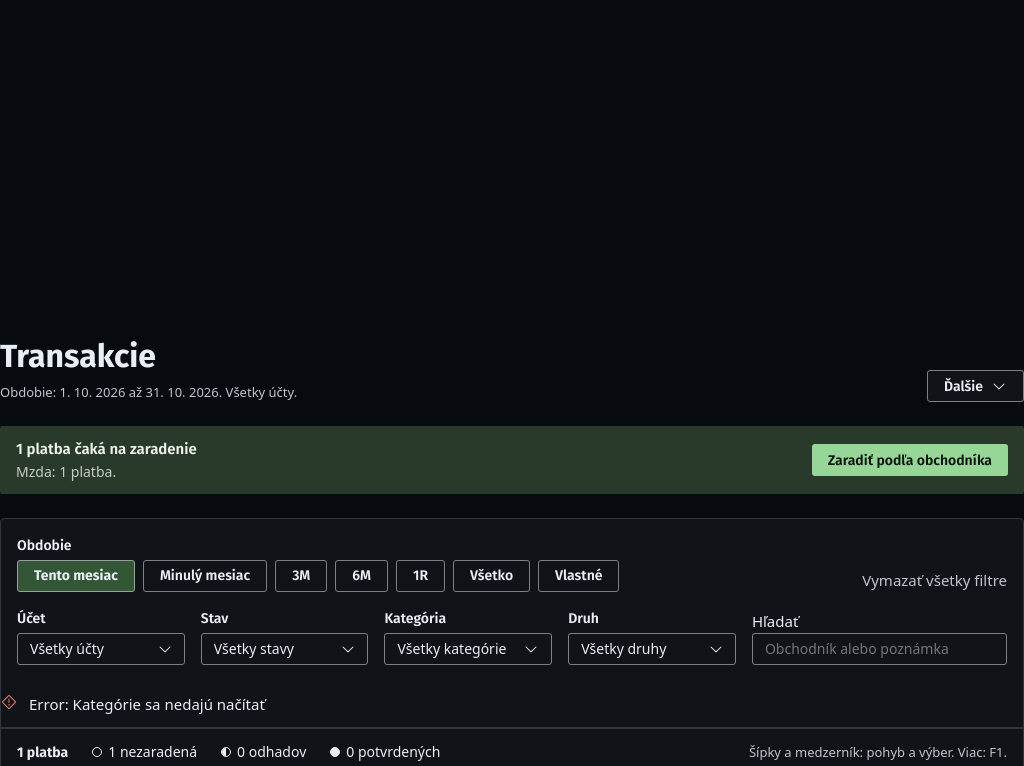
reloads account and category sources through Obnoviť after initial metadata failure
(page scrolled)
Expected: the message "Error: Kategórie sa nedajú načítať" is shown, x1=1 y1=681 x2=1023 y2=728
Click the button "Ďalšie": (976, 386) x1=927 y1=370 x2=1023 y2=402
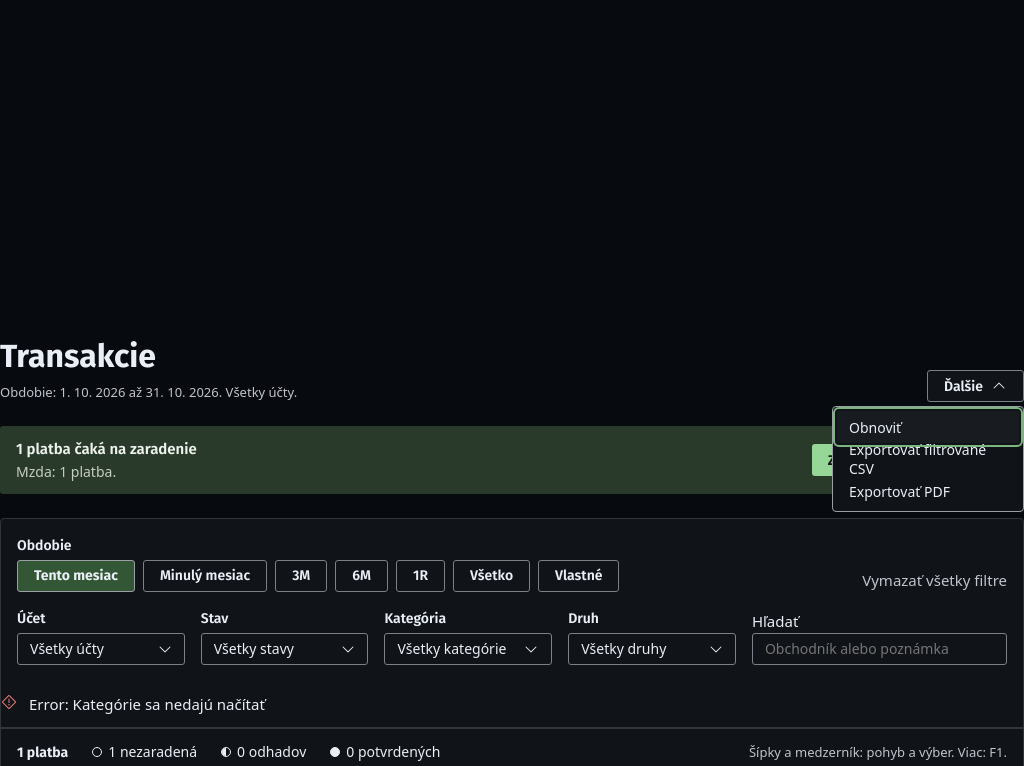
Click the menu item "Obnoviť": (928, 427) x1=837 y1=411 x2=1019 y2=443
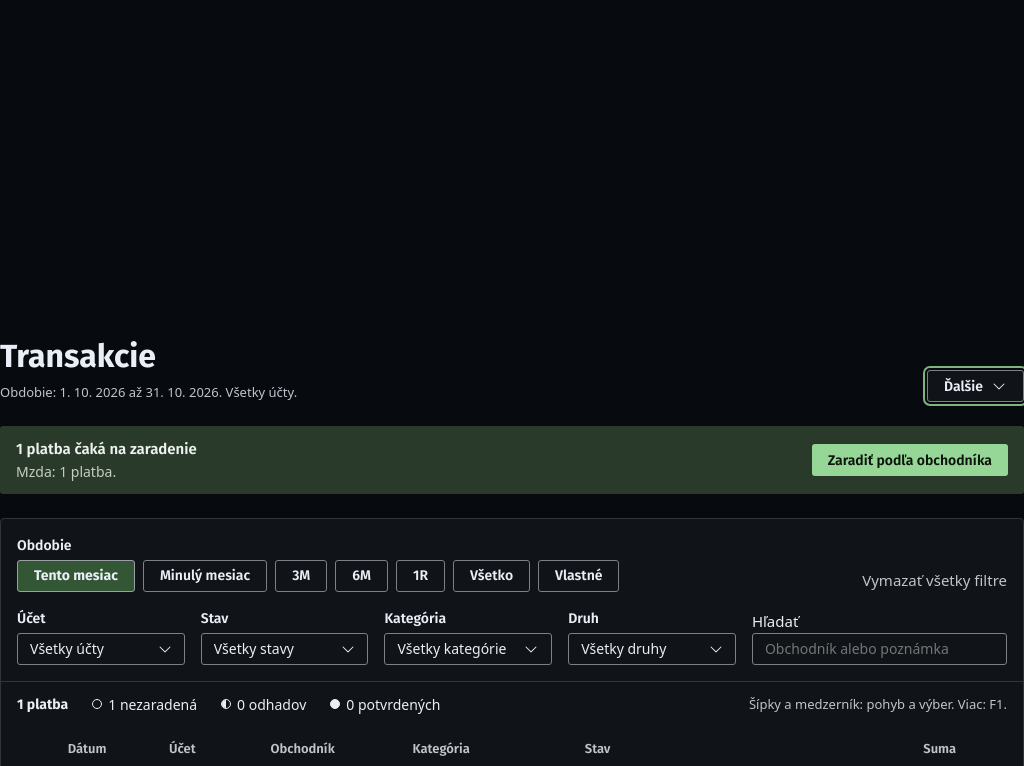
Click the dropdown named "Kategória": (468, 649) x1=384 y1=633 x2=552 y2=665
(page scrolled)
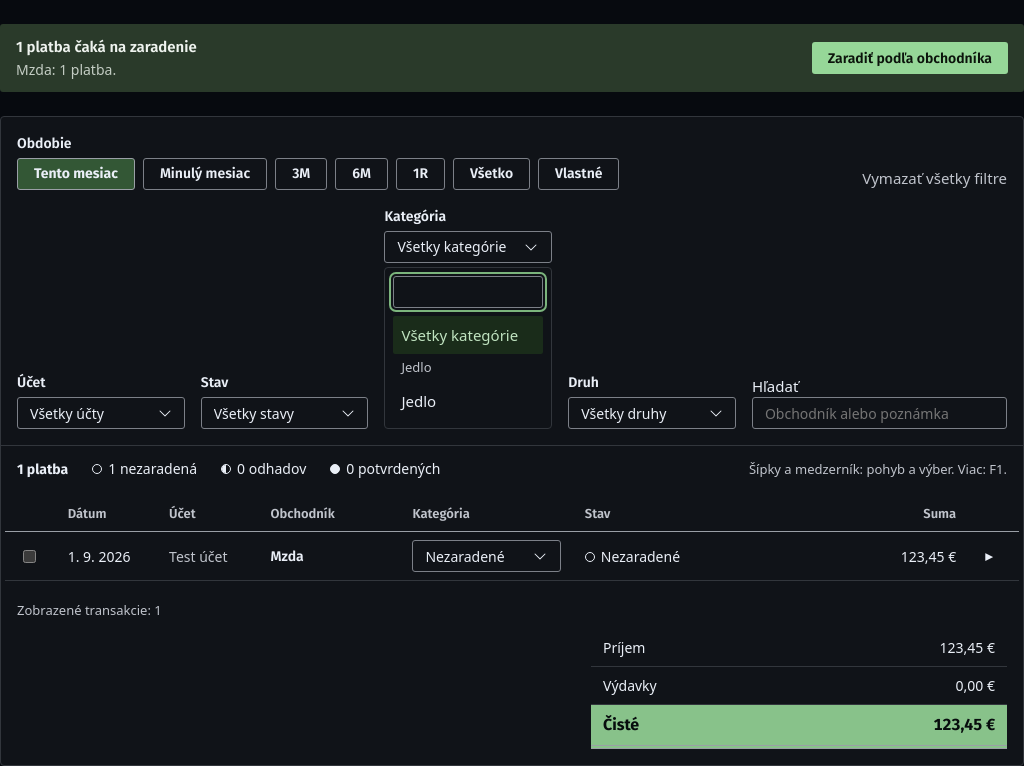
Expected: the message "Error: Kategórie sa nedajú načítať" is not shown
Now the option "Jedlo" is shown, box x1=393 y1=382 x2=543 y2=420
